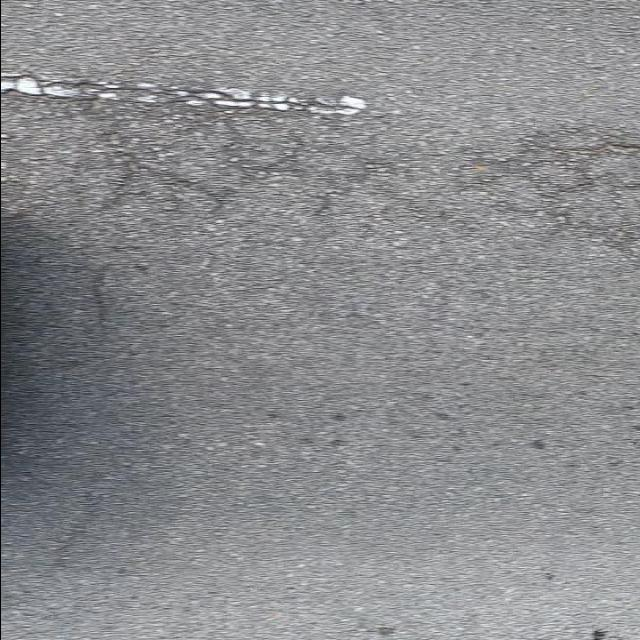cracks: (0, 37, 639, 280)
